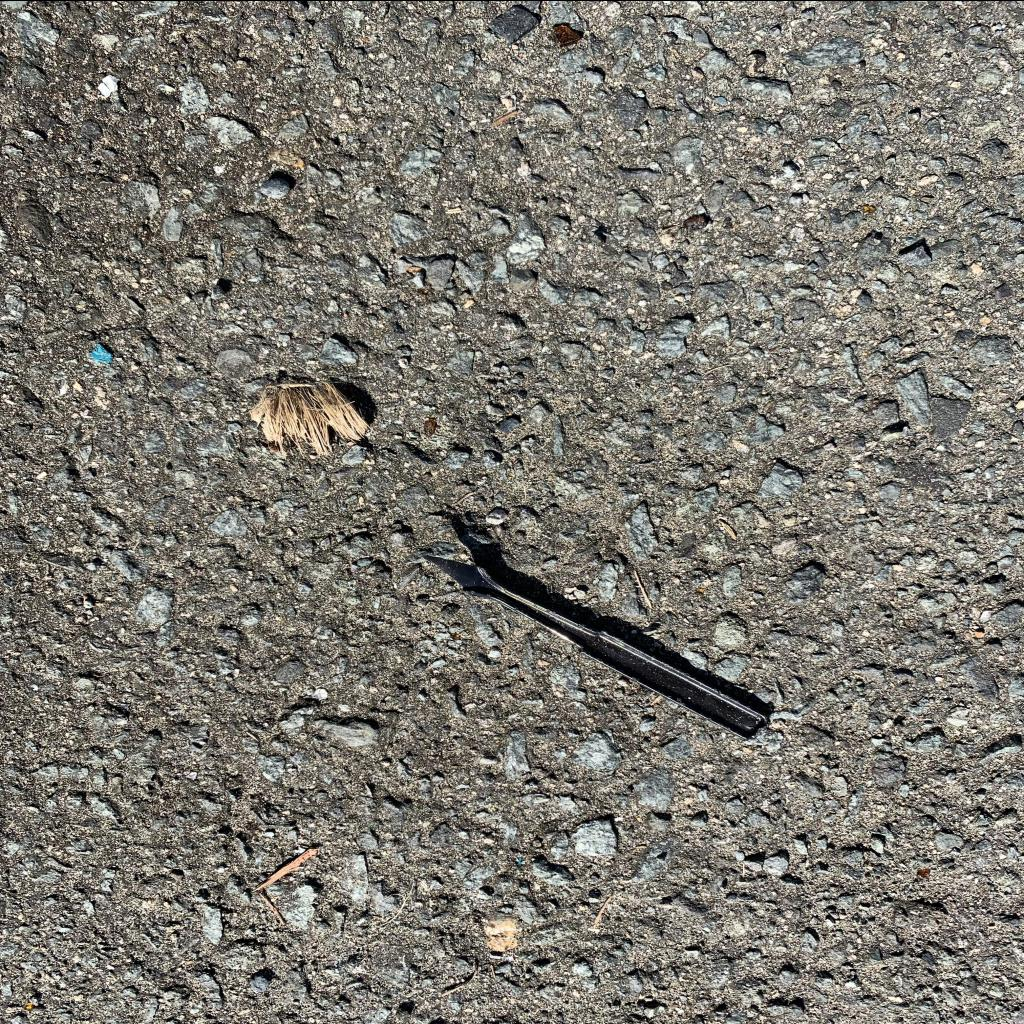Broken glass: (552, 24, 582, 46), (684, 215, 706, 230), (918, 867, 930, 879), (862, 204, 874, 212), (23, 1002, 33, 1009)
Other plastic bottle: (90, 343, 112, 365), (99, 73, 119, 97)
Plastic utensils: (420, 553, 770, 739)
